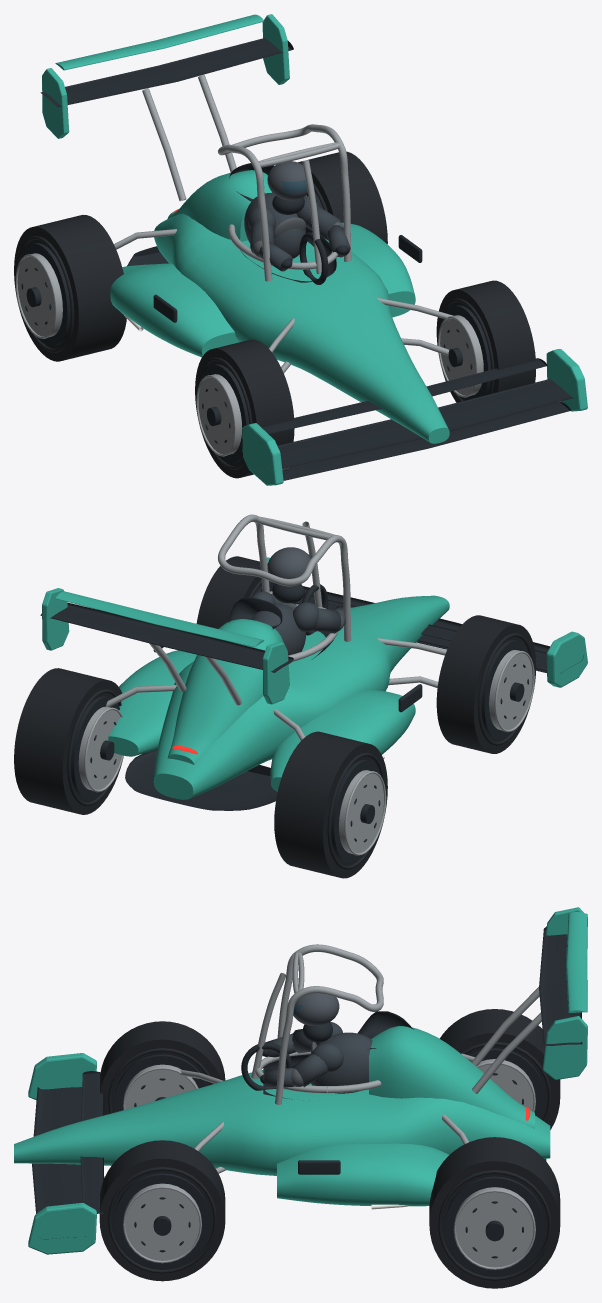
File: car_vector_gp.glb
3 renders of one model, top to bottom at view 1: azimuth 30°, elevation 25°; view 2: azimuth 150°, elevation 25°; view 3: azimuth 270°, elevation 25°, orthographic.
Visible parts, largest first — view 1: Blender Vehicle - Vector Grand Prix.016 - Vehicle Body, WheelMesh_F1Rear_car_vector_gp_-1.016, WheelMesh_F1Front_car_vector_gp_-1.016, WheelMesh_F1Front_car_vector_gp_1.016, WheelMesh_F1Rear_car_vector_gp_1.016, Halo_Main_car_vector_gp.010, RearWing_Pylon_car_vector_gp_-1.010, Halo_CenterPillar_car_vector_gp.010, RearWing_Pylon_car_vector_gp_1.010, Halo_Crossbar_car_vector_gp.010, CockpitRim_car_vector_gp.010; view 2: Blender Vehicle - Vector Grand Prix.016 - Vehicle Body, WheelMesh_F1Rear_car_vector_gp_-1.016, WheelMesh_F1Rear_car_vector_gp_1.016, WheelMesh_F1Front_car_vector_gp_-1.016, Halo_Main_car_vector_gp.010, WheelMesh_F1Front_car_vector_gp_1.016, Halo_Crossbar_car_vector_gp.010, SuspensionRearUpper_car_vector_gp_1.010; view 3: Blender Vehicle - Vector Grand Prix.016 - Vehicle Body, WheelMesh_F1Rear_car_vector_gp_1.016, WheelMesh_F1Front_car_vector_gp_1.016, WheelMesh_F1Front_car_vector_gp_-1.016, WheelMesh_F1Rear_car_vector_gp_-1.016, Halo_Main_car_vector_gp.010, CockpitRim_car_vector_gp.010, RearWing_Pylon_car_vector_gp_1.010, RearWing_Pylon_car_vector_gp_-1.010, Halo_CenterPillar_car_vector_gp.010.
Boxes of the visible parts, x1,y1,x2,y2 form: Blender Vehicle - Vector Grand Prix.016 - Vehicle Body: (40,14,587,485); WheelMesh_F1Rear_car_vector_gp_-1.016: (14,215,126,361); WheelMesh_F1Front_car_vector_gp_-1.016: (195,339,294,478); WheelMesh_F1Front_car_vector_gp_1.016: (436,280,535,402); WheelMesh_F1Rear_car_vector_gp_1.016: (298,151,387,243); Halo_Main_car_vector_gp.010: (218,124,351,281); RearWing_Pylon_car_vector_gp_-1.010: (142,88,186,201); Halo_CenterPillar_car_vector_gp.010: (302,160,321,273); RearWing_Pylon_car_vector_gp_1.010: (198,74,236,172); Halo_Crossbar_car_vector_gp.010: (258,142,340,167); CockpitRim_car_vector_gp.010: (228,224,337,269); Blender Vehicle - Vector Grand Prix.016 - Vehicle Body: (40,547,587,810); WheelMesh_F1Rear_car_vector_gp_-1.016: (274,731,387,878); WheelMesh_F1Rear_car_vector_gp_1.016: (14,668,123,814); WheelMesh_F1Front_car_vector_gp_-1.016: (436,615,536,753); Halo_Main_car_vector_gp.010: (218,514,351,641); WheelMesh_F1Front_car_vector_gp_1.016: (196,556,294,628); Halo_Crossbar_car_vector_gp.010: (256,516,334,540); SuspensionRearUpper_car_vector_gp_1.010: (106,685,176,707); Blender Vehicle - Vector Grand Prix.016 - Vehicle Body: (14,907,587,1254); WheelMesh_F1Rear_car_vector_gp_1.016: (429,1137,560,1288); WheelMesh_F1Front_car_vector_gp_1.016: (99,1140,225,1281); WheelMesh_F1Front_car_vector_gp_-1.016: (100,1021,225,1115); WheelMesh_F1Rear_car_vector_gp_-1.016: (439,1009,560,1129); Halo_Main_car_vector_gp.010: (275,944,383,1104); CockpitRim_car_vector_gp.010: (255,1051,381,1093); RearWing_Pylon_car_vector_gp_1.010: (472,1012,541,1093); RearWing_Pylon_car_vector_gp_-1.010: (472,987,539,1066); Halo_CenterPillar_car_vector_gp.010: (251,972,286,1079).
Bounding box in the file's own units: 2.92 × 2.05 × 4.24.
